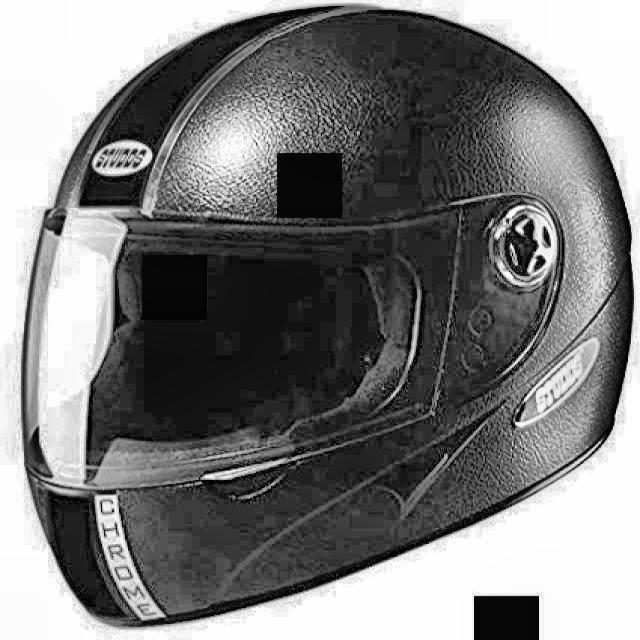Helmet: (20, 2, 636, 636)
